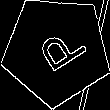P_SW: (26, 22, 86, 79)
